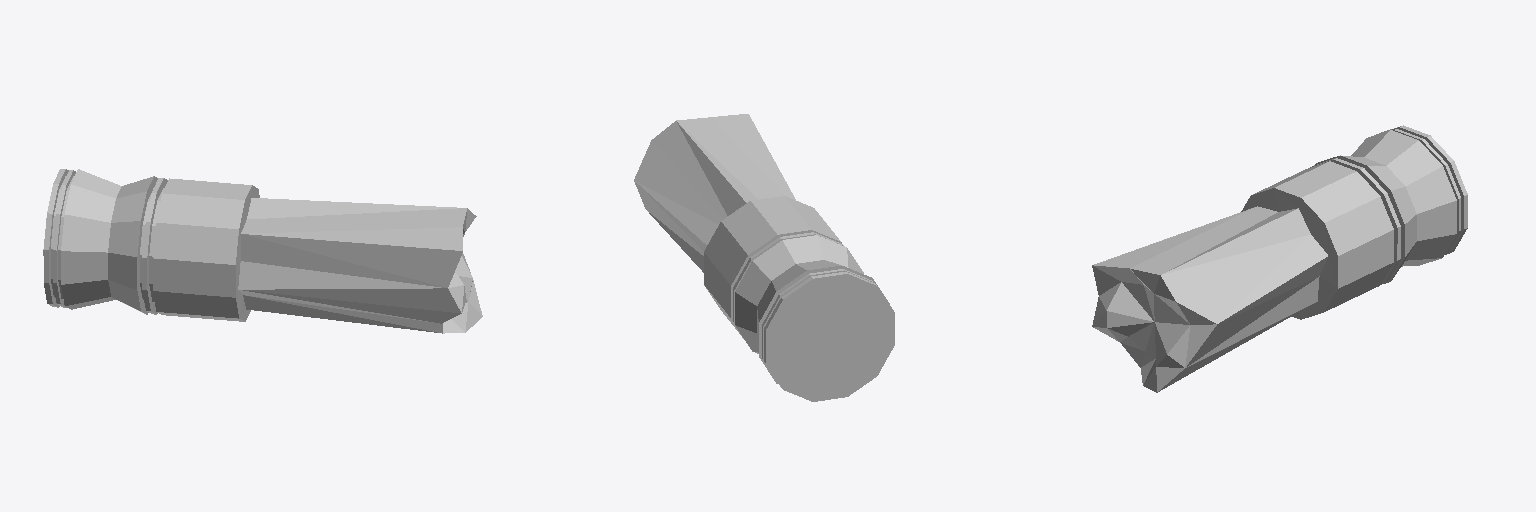
The model's file is piliersol4.obj.
The picture shows the model from 3 angles: view 1: azimuth 30°, elevation 25°; view 2: azimuth 150°, elevation 25°; view 3: azimuth 270°, elevation 25°; orthographic projection.
Size of the model in its own units: 0.8061 by 0.2851 by 0.7734.